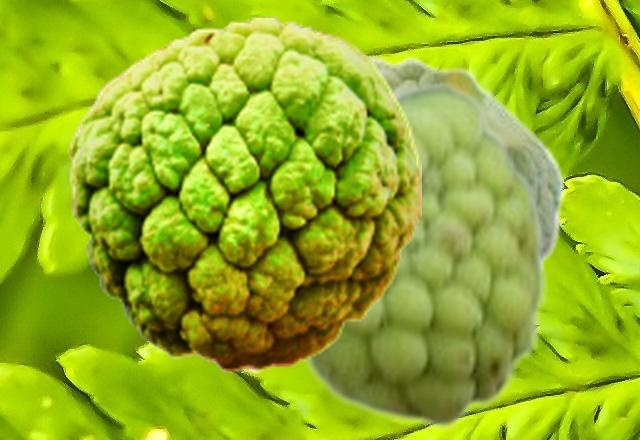atis: (67, 14, 420, 372), (300, 78, 549, 432), (372, 55, 566, 268)
